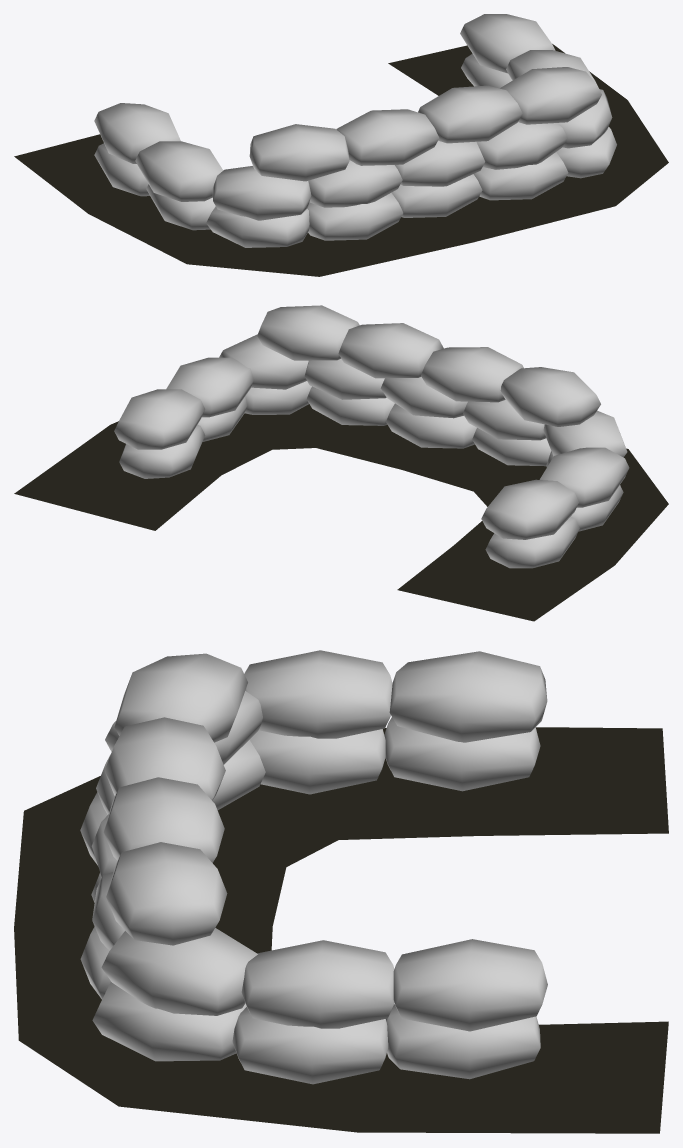
Rendered from Sandbag_05.FBX.
3 views of the same model, one above another, from view 1: azimuth 30°, elevation 25°; view 2: azimuth 150°, elevation 25°; view 3: azimuth 270°, elevation 25° (orthographic). The views are drawn at different scales.
Visible parts, largest first — view 1: sandbag_004, Object010; view 2: sandbag_004, Object010; view 3: sandbag_004, Object010.
Part boxes in pixels (x1,y1,x2,y2): sandbag_004: [94, 14, 616, 247]; Object010: [14, 44, 668, 276]; sandbag_004: [114, 305, 629, 568]; Object010: [14, 404, 668, 621]; sandbag_004: [80, 650, 547, 1084]; Object010: [14, 727, 668, 1133].
Bounding box in the file's own units: 567 × 107 × 385.
